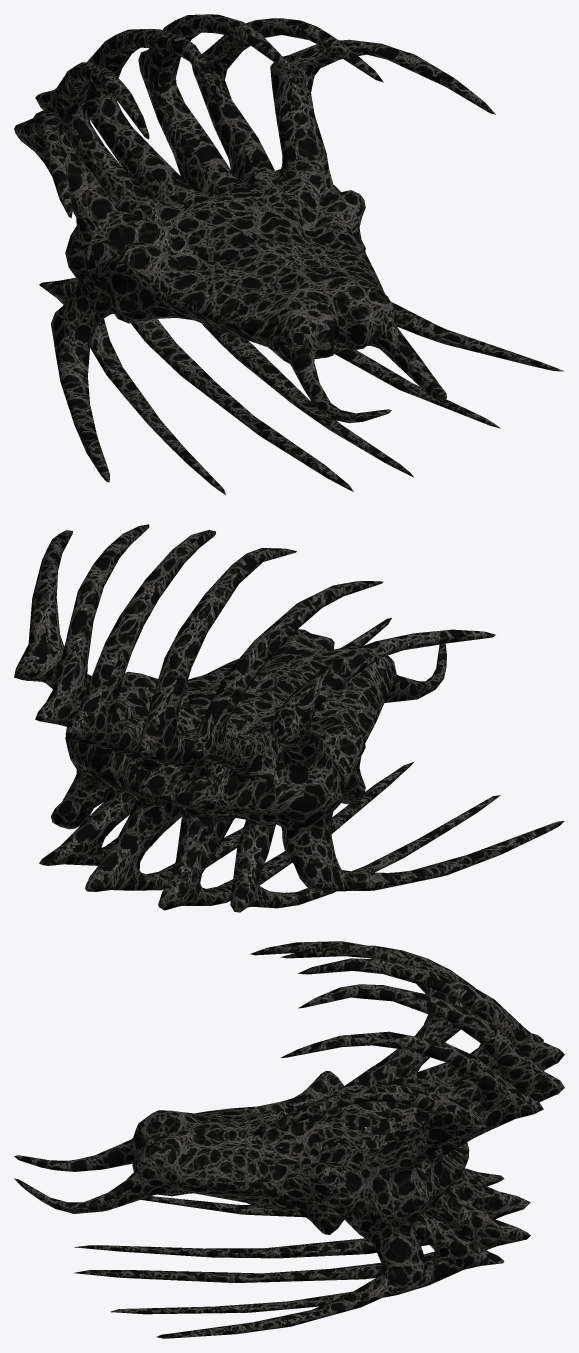
File: shadow-scout.glb
3 renders of one model, top to bottom at view 1: azimuth 30°, elevation 25°; view 2: azimuth 150°, elevation 25°; view 3: azimuth 270°, elevation 25°, orthographic. The views are drawn at different scales.
Parts seen in each view (by area): view 1: Shadow_Scout.3DS_2; view 2: Shadow_Scout.3DS_2; view 3: Shadow_Scout.3DS_2.
Part boxes in pixels (x1,y1,x2,y2): Shadow_Scout.3DS_2: (14,14,563,494); Shadow_Scout.3DS_2: (14,524,564,912); Shadow_Scout.3DS_2: (14,941,564,1338).
Bounding box in the file's own units: 79.09 × 56.34 × 94.32.
1 material, 1 textured.
